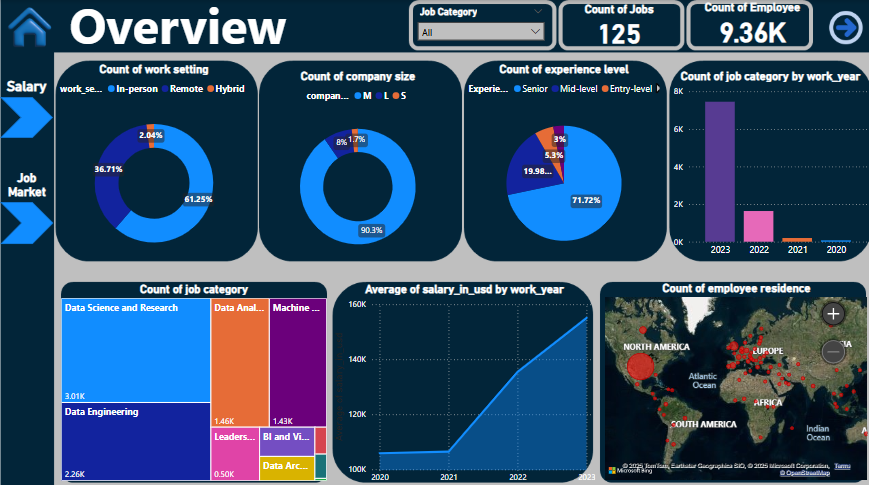

What the dashboard file says about the page in this screenshot:
{"tool":"powerbi","page":{"name":"Overview","canvas":[1280,720],"ordinal":0},"visuals":[{"type":"lineStackedColumnComboChart","title":"Count of job category by work_year","fields":{"Category":["jobs_in_data.work_year"],"Y":["CountNonNull(jobs_in_data.job_category)"]},"box":[984.5,101.4,295.3,285.1],"z":0},{"type":"treemap","title":"Count of job category","fields":{"Group":["jobs_in_data.job_category"],"Values":["CountNonNull(jobs_in_data.job_category)"]},"box":[85.2,414.4,399.7,296.8],"z":1000},{"type":"pieChart","title":"Count of experience level","fields":{"Category":["jobs_in_data.experience_level"],"Y":["CountNonNull(jobs_in_data.experience_level)"]},"box":[683.3,91.1,290.9,308.6],"z":2000},{"type":"areaChart","fields":{"Category":["jobs_in_data.work_year"],"Y":["Avg(jobs_in_data.salary_in_usd)"]},"box":[484.9,414.4,395.3,305.6],"z":3000},{"type":"donutChart","title":"Count of work setting","fields":{"Category":["jobs_in_data.work_setting"],"Y":["CountNonNull(jobs_in_data.work_setting)"]},"box":[70.5,91.1,311.5,308.6],"z":4000},{"type":"donutChart","title":"Count of company size","fields":{"Category":["jobs_in_data.company_size"],"Y":["CountNonNull(jobs_in_data.company_size)"]},"box":[368.8,101.4,314.4,298.3],"z":5000},{"type":"map","title":"Count of employee residence","fields":{"Category":["jobs_in_data.employee_residence"],"Size":["CountNonNull(jobs_in_data.employee_residence)"]},"box":[884.6,412.9,395.3,298.3],"z":6000},{"type":"card","title":"Count of Employee","fields":{"Values":["CountNonNull(jobs_in_data.job_title)"]},"box":[1023.3,0,170,63.3],"z":7000},{"type":"card","title":"Count of Jobs","fields":{"Values":["Count(jobs_in_data.job_title)"]},"box":[825,3.3,175,63.3],"z":8000},{"type":"slicer","fields":{"Values":["jobs_in_data.job_category"]},"box":[603.9,4.4,205.7,64.7],"z":9000},{"type":"image","box":[1206.7,0,73.3,80],"z":10000},{"type":"shape","title":"Salary","box":[0,115,78.3,88.3],"z":11000},{"type":"textbox","box":[83.3,0,355,115],"z":12000},{"type":"image","box":[1.7,0,83.3,80],"z":13000},{"type":"shape","title":"Job Market","box":[0,250.3,79,109.2],"z":14000}]}

Visuals, with their boxes in screenshot pixels (x1, y1, x2, y2), scaled from the page's 1280x720 canvas onto the 869x485 screenshot:
"Count of job category by work_year" lineStackedColumnComboChart: {"left": 668, "top": 68, "right": 868, "bottom": 260}
"Count of job category" treemap: {"left": 58, "top": 279, "right": 329, "bottom": 479}
"Count of experience level" pieChart: {"left": 464, "top": 61, "right": 661, "bottom": 269}
areaChart - jobs_in_data.work_year x Avg(jobs_in_data.salary_in_usd): {"left": 329, "top": 279, "right": 598, "bottom": 484}
"Count of work setting" donutChart: {"left": 48, "top": 61, "right": 259, "bottom": 269}
"Count of company size" donutChart: {"left": 250, "top": 68, "right": 464, "bottom": 269}
"Count of employee residence" map: {"left": 601, "top": 278, "right": 868, "bottom": 479}
"Count of Employee" card: {"left": 695, "top": 0, "right": 810, "bottom": 43}
"Count of Jobs" card: {"left": 560, "top": 2, "right": 679, "bottom": 45}
slicer - jobs_in_data.job_category: {"left": 410, "top": 3, "right": 550, "bottom": 47}
image: {"left": 819, "top": 0, "right": 868, "bottom": 54}
"Salary" shape: {"left": 0, "top": 77, "right": 53, "bottom": 137}
textbox: {"left": 57, "top": 0, "right": 298, "bottom": 77}
image: {"left": 1, "top": 0, "right": 58, "bottom": 54}
"Job Market" shape: {"left": 0, "top": 169, "right": 54, "bottom": 242}
